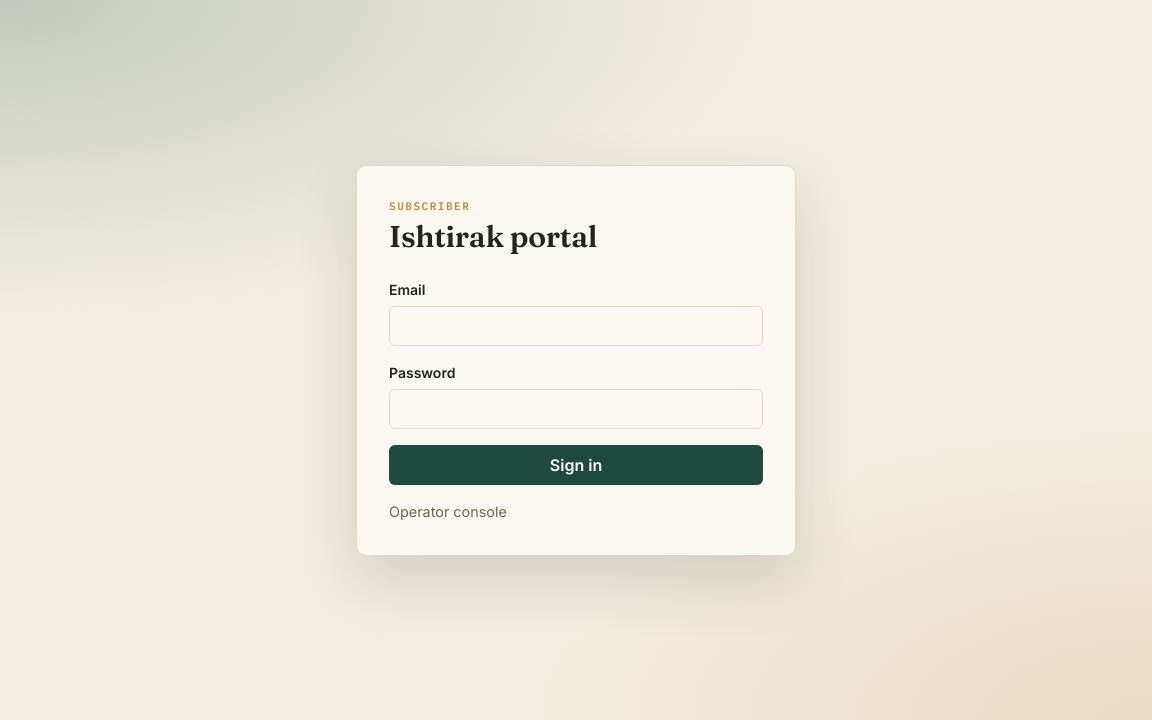
Test: auth pages › logs in on the subscriber surface and redirects to the portal
The width and height of the screenshot is (1152, 720).
Expected: the button "Sign in" is shown, x1=389 y1=444 x2=763 y2=484
Type "sub@ishtirak.local" into the field labelled "Email" at (576, 326), box x1=389 y1=306 x2=763 y2=346
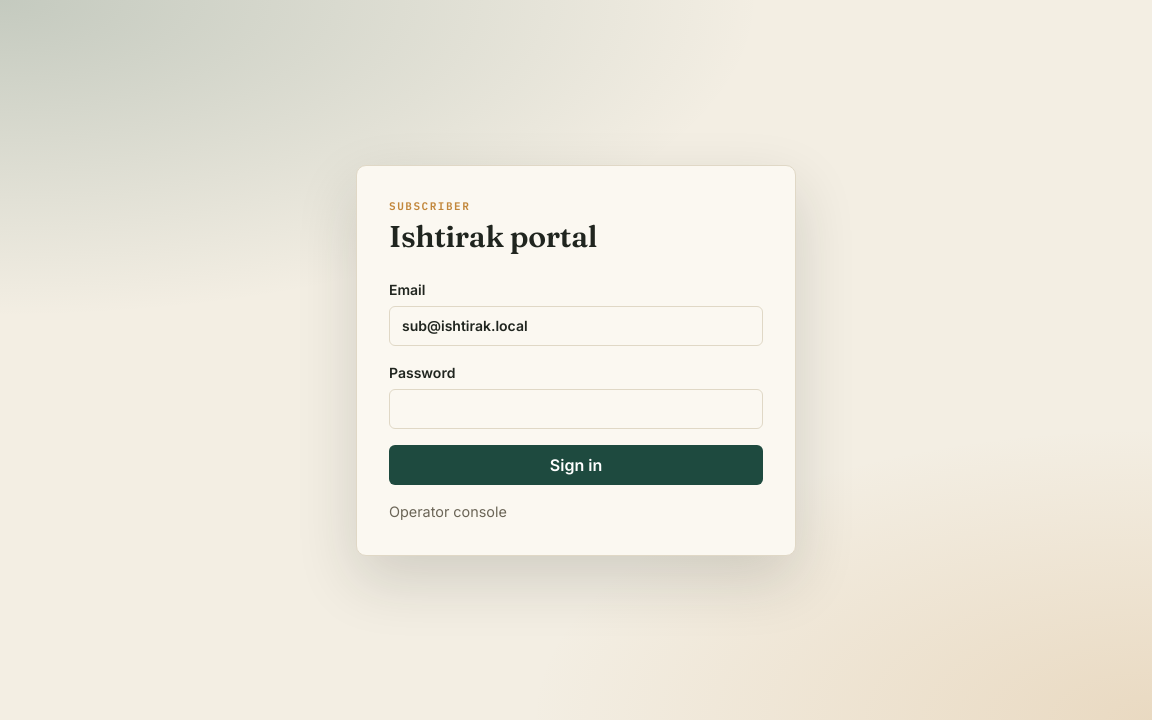
Type "demo-password" into the password field labelled "Password" at (576, 408), box x1=389 y1=388 x2=763 y2=428
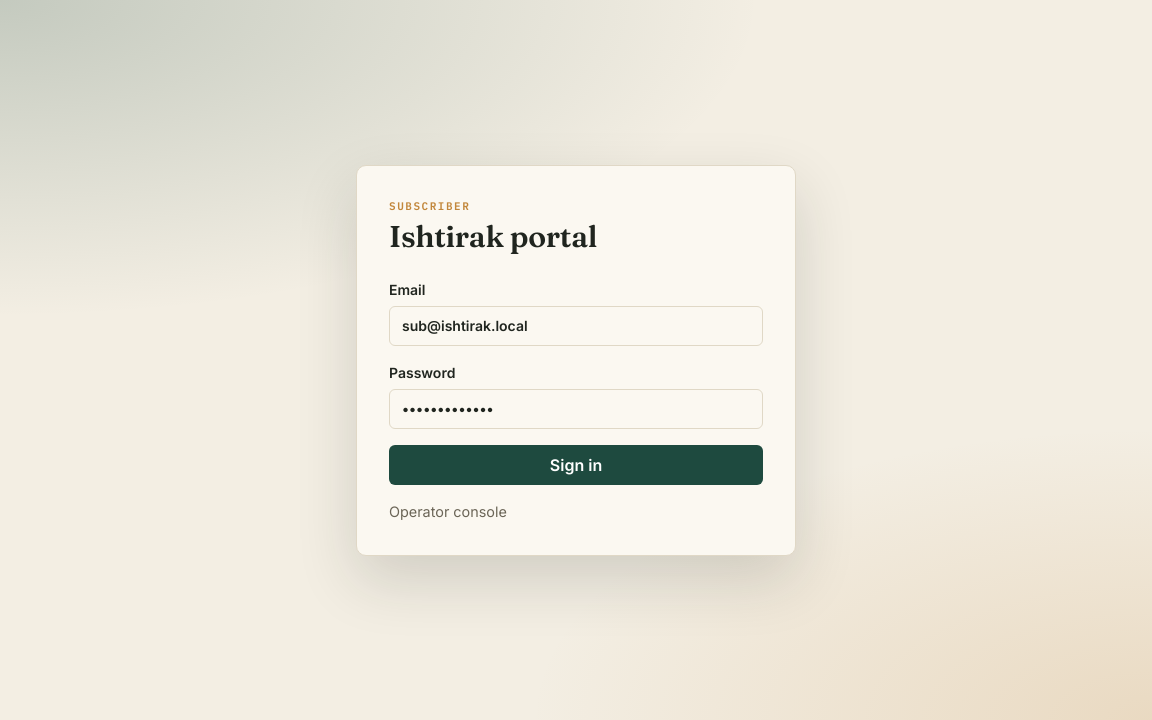
Click the button "Sign in" at (576, 464), box x1=389 y1=444 x2=763 y2=484
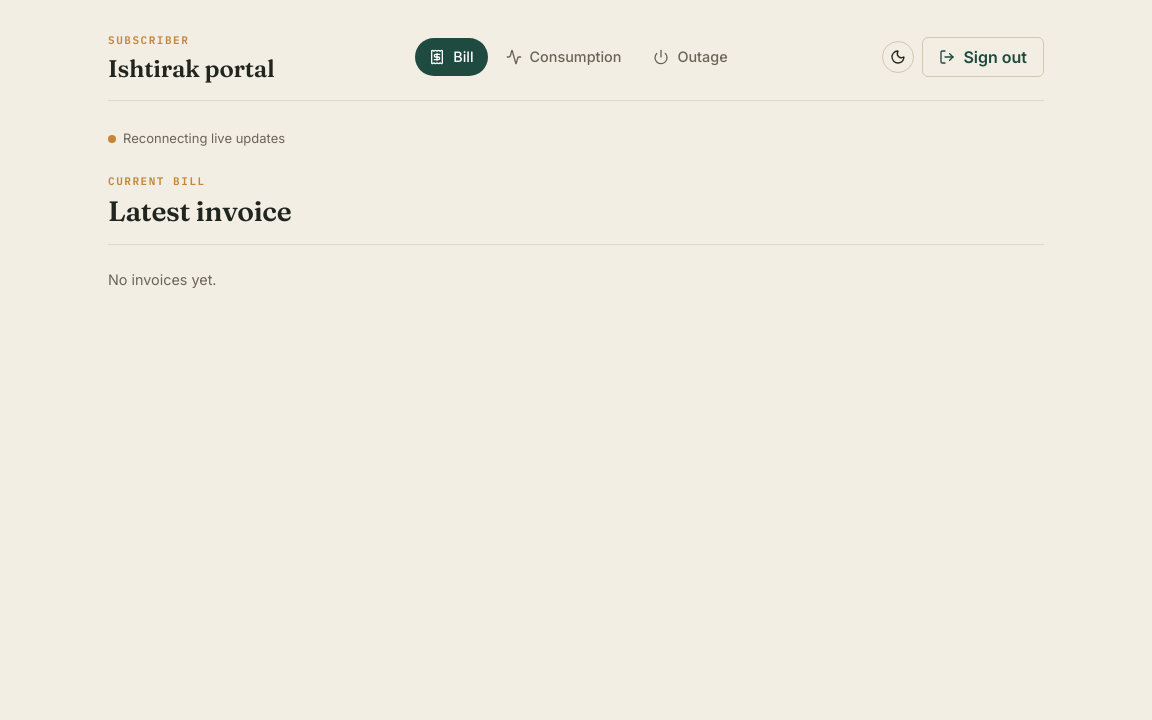
Result: the button "Sign out" is shown at x1=922 y1=37 x2=1044 y2=77
